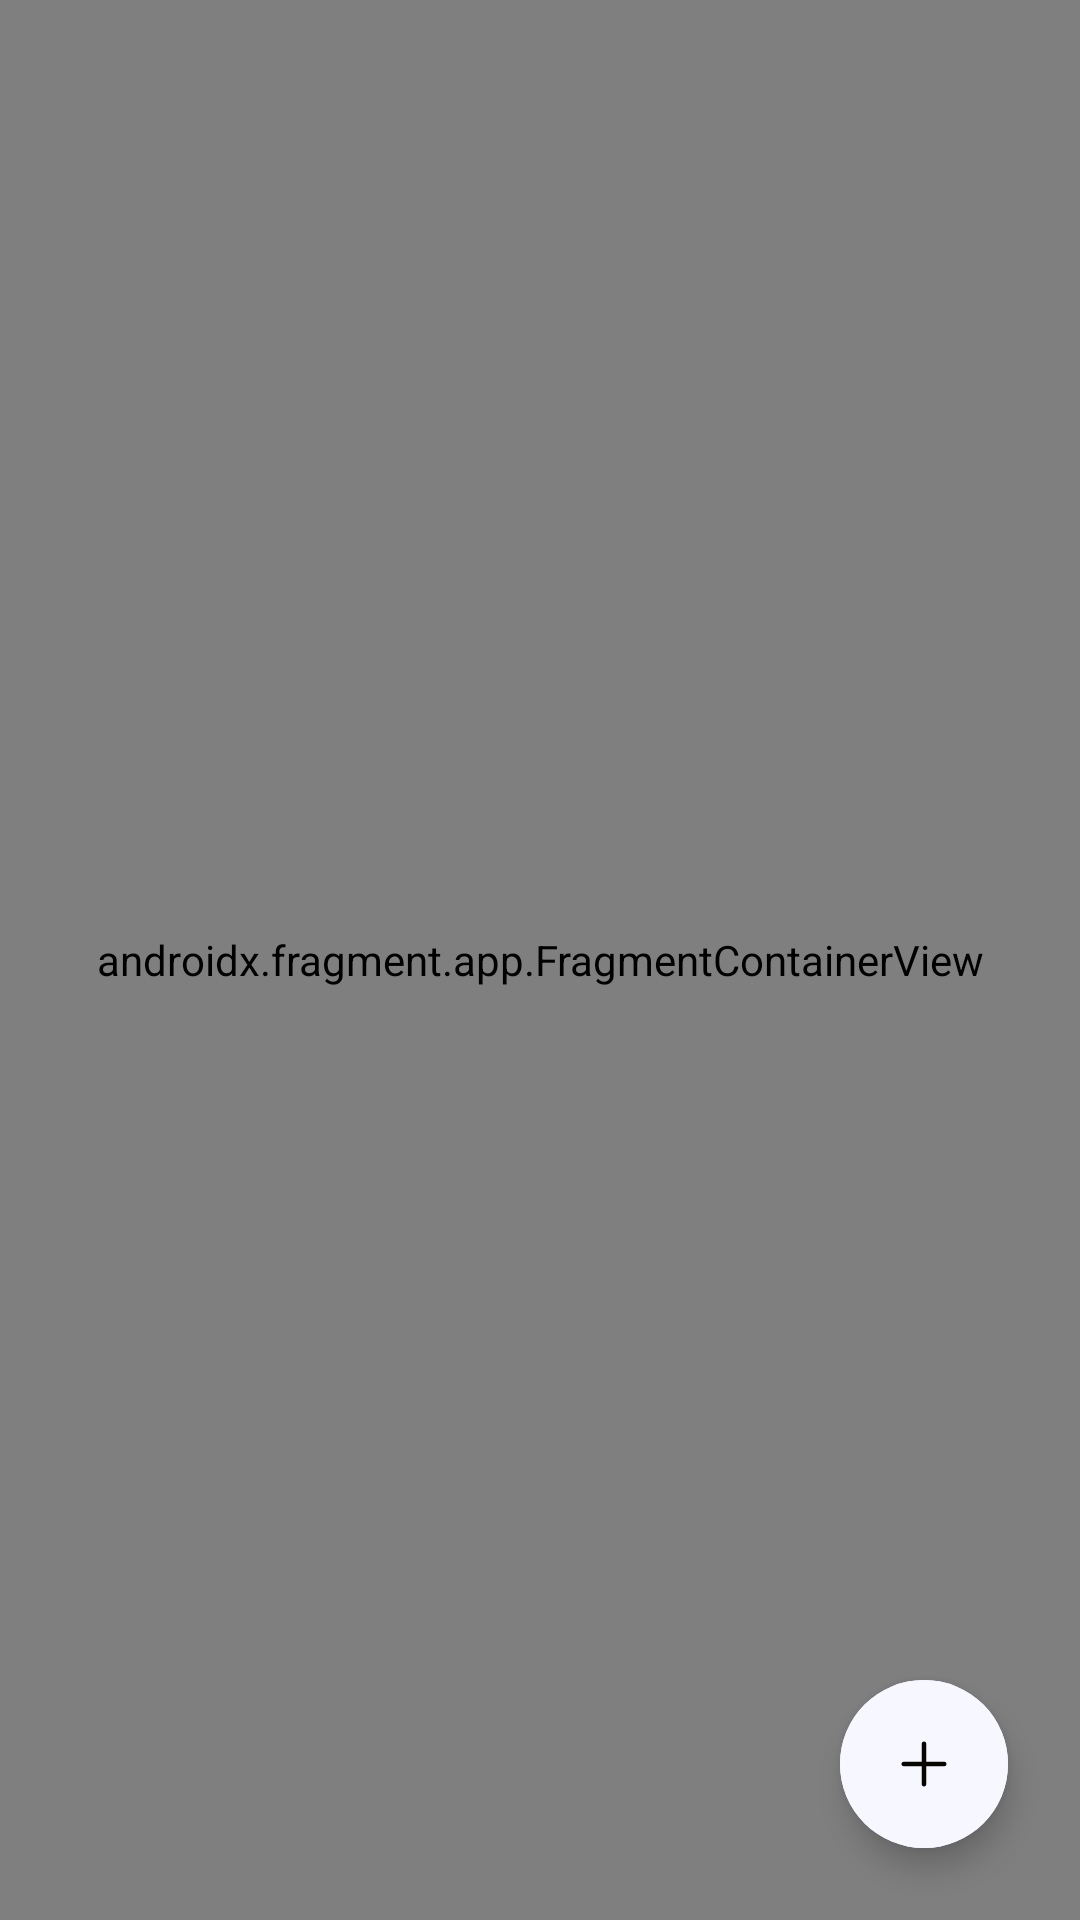

Icons on this 1080x1920 Android screen, each with the point to tap as [x,y]:
plus: [924,1764]
